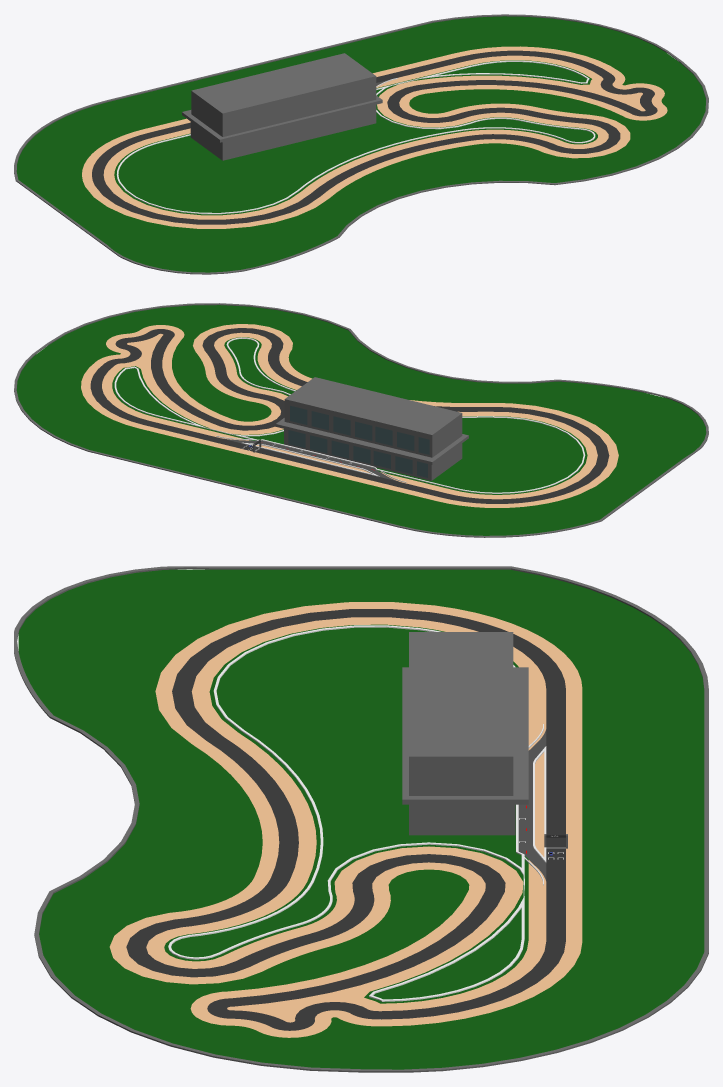
The model's file is Cordeda+Speedway (1).obj.
The picture shows the model from 3 angles, top to bottom: view 1: azimuth 30°, elevation 25°; view 2: azimuth 150°, elevation 25°; view 3: azimuth 270°, elevation 25°; orthographic projection. The views are drawn at different scales.
Parts seen in each view (by area): view 1: Mesh1 staticmesh Model; view 2: Mesh1 staticmesh Model; view 3: Mesh1 staticmesh Model.
Boxes of the visible parts, x1,y1,x2,y2 form: Mesh1 staticmesh Model: (14, 14, 708, 274); Mesh1 staticmesh Model: (14, 303, 708, 537); Mesh1 staticmesh Model: (14, 566, 708, 1072).
Size of the model in its own units: 489 by 35.52 by 285.
